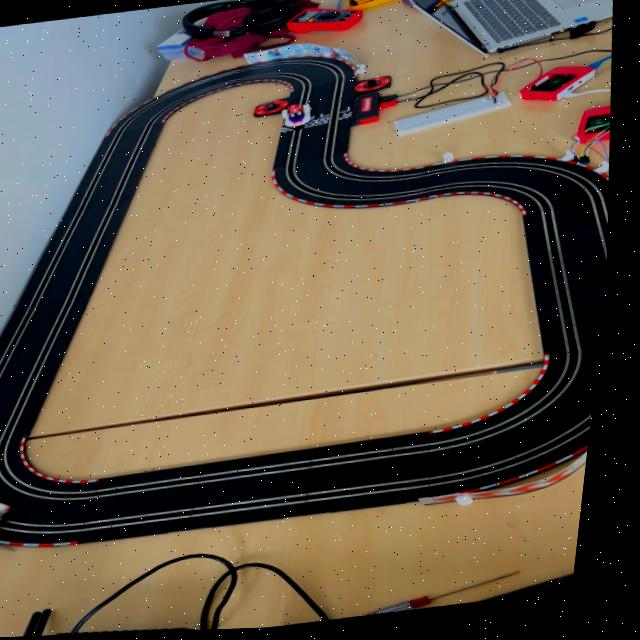mario: (278, 104, 319, 132)
yoshi: (0, 484, 32, 538)
